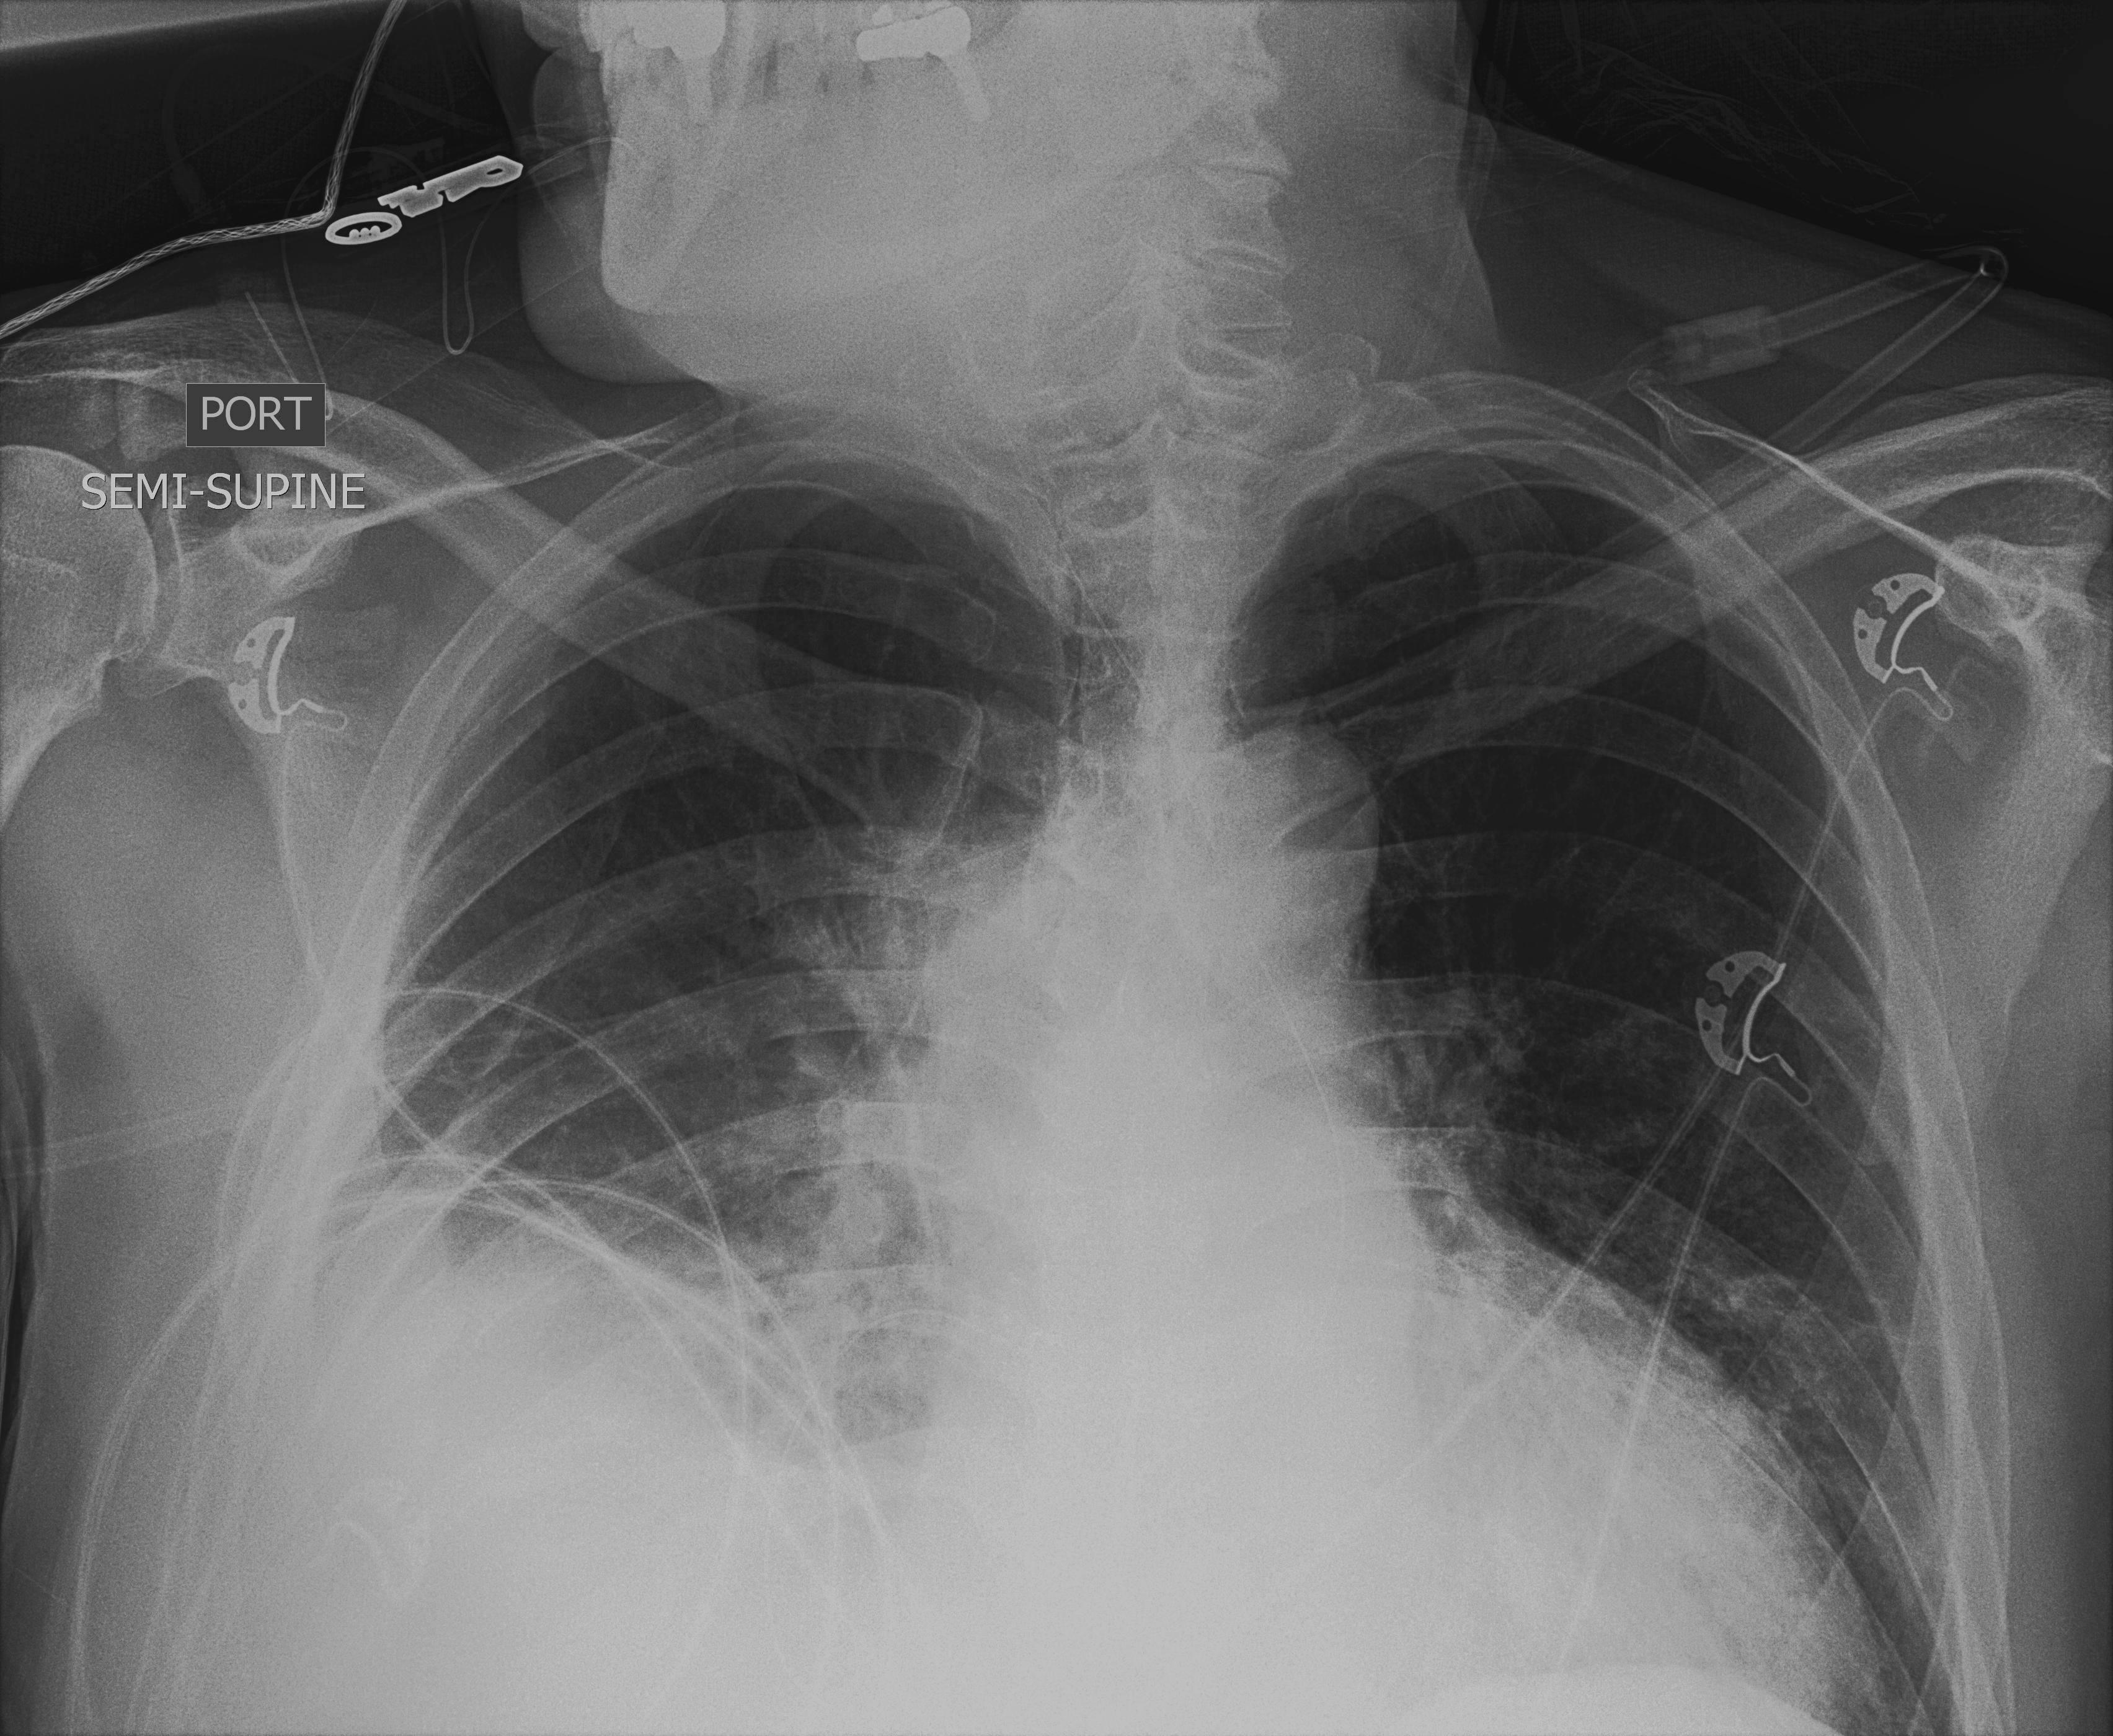Pleural Effusion: (225, 1188, 832, 1736)
